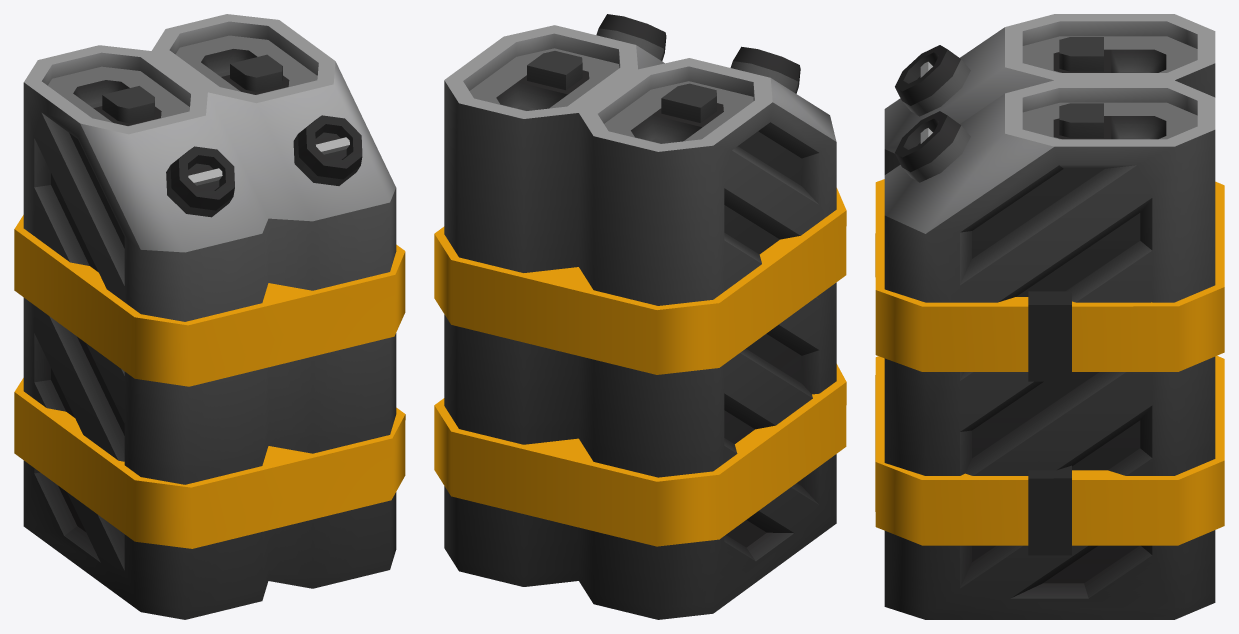
The model's file is Gas_can_014.fbx.
3 views of the same model, side by side, from view 1: azimuth 30°, elevation 25°; view 2: azimuth 150°, elevation 25°; view 3: azimuth 270°, elevation 25° (orthographic). The views are drawn at different scales.
Visible parts, largest first — view 1: Gas_can_014; view 2: Gas_can_014; view 3: Gas_can_014.
Part boxes in pixels (left/top/right/bottom): Gas_can_014: left=14, top=14, right=405, bottom=619; Gas_can_014: left=434, top=14, right=846, bottom=619; Gas_can_014: left=875, top=14, right=1224, bottom=619.
Bounding box in the file's own units: 32.17 × 32.77 × 49.06.
